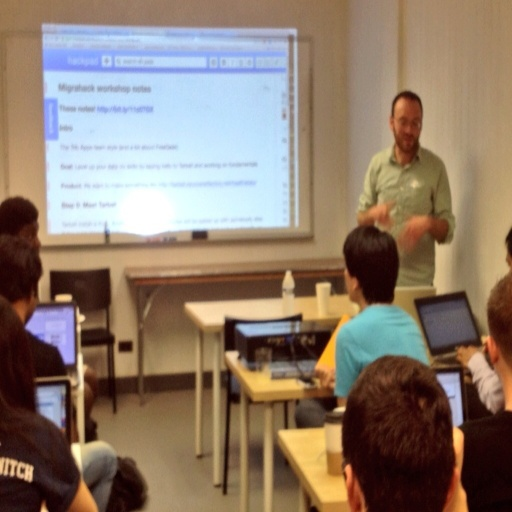hand: (399, 215, 428, 253), (371, 199, 397, 230), (453, 424, 465, 486), (456, 344, 480, 366), (320, 368, 336, 390)
